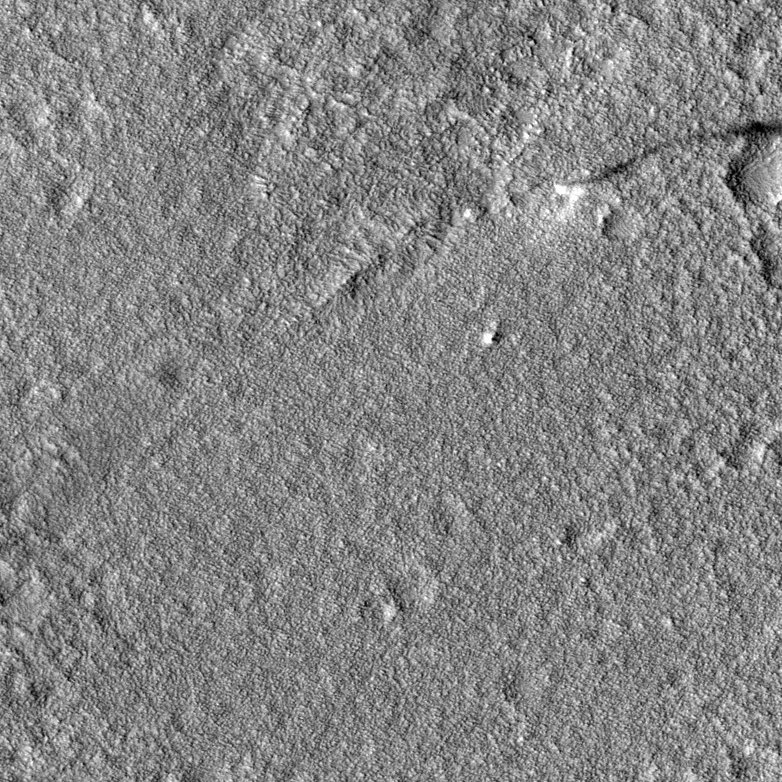dust_devil: (550, 113, 782, 227)
